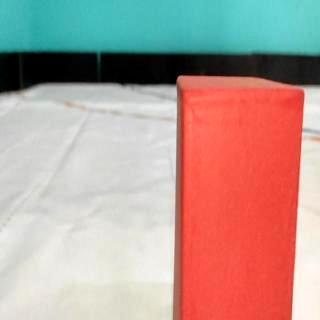redbox: (176, 77, 292, 320)
